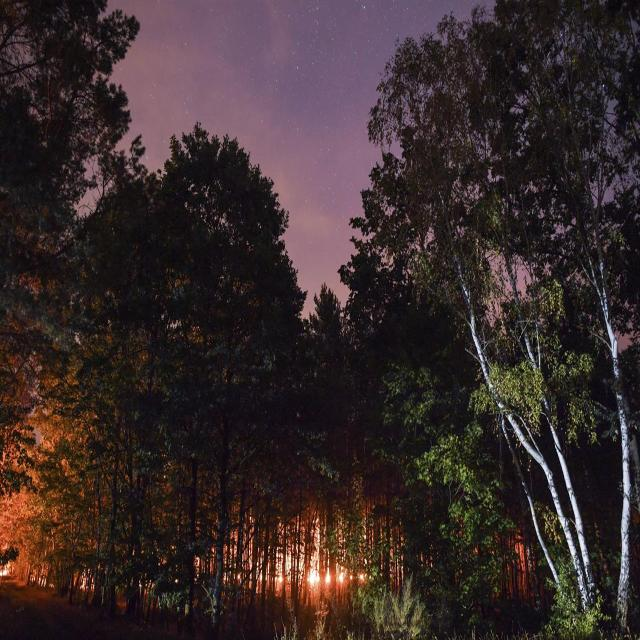Fire: (238, 533, 373, 607), (0, 509, 66, 614)
